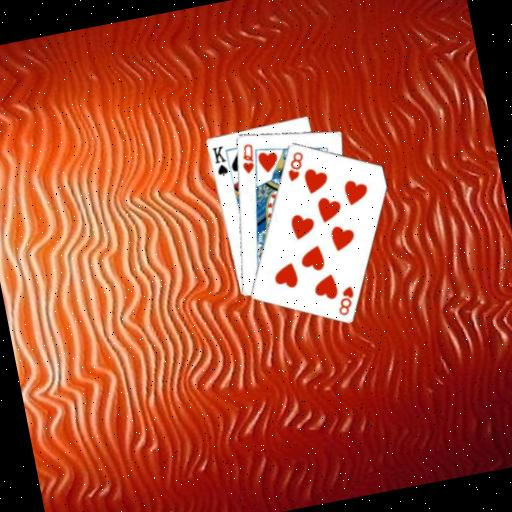8H: (281, 147, 310, 183), (331, 282, 360, 318)
KS: (208, 143, 230, 179)
QH: (235, 140, 259, 176)
